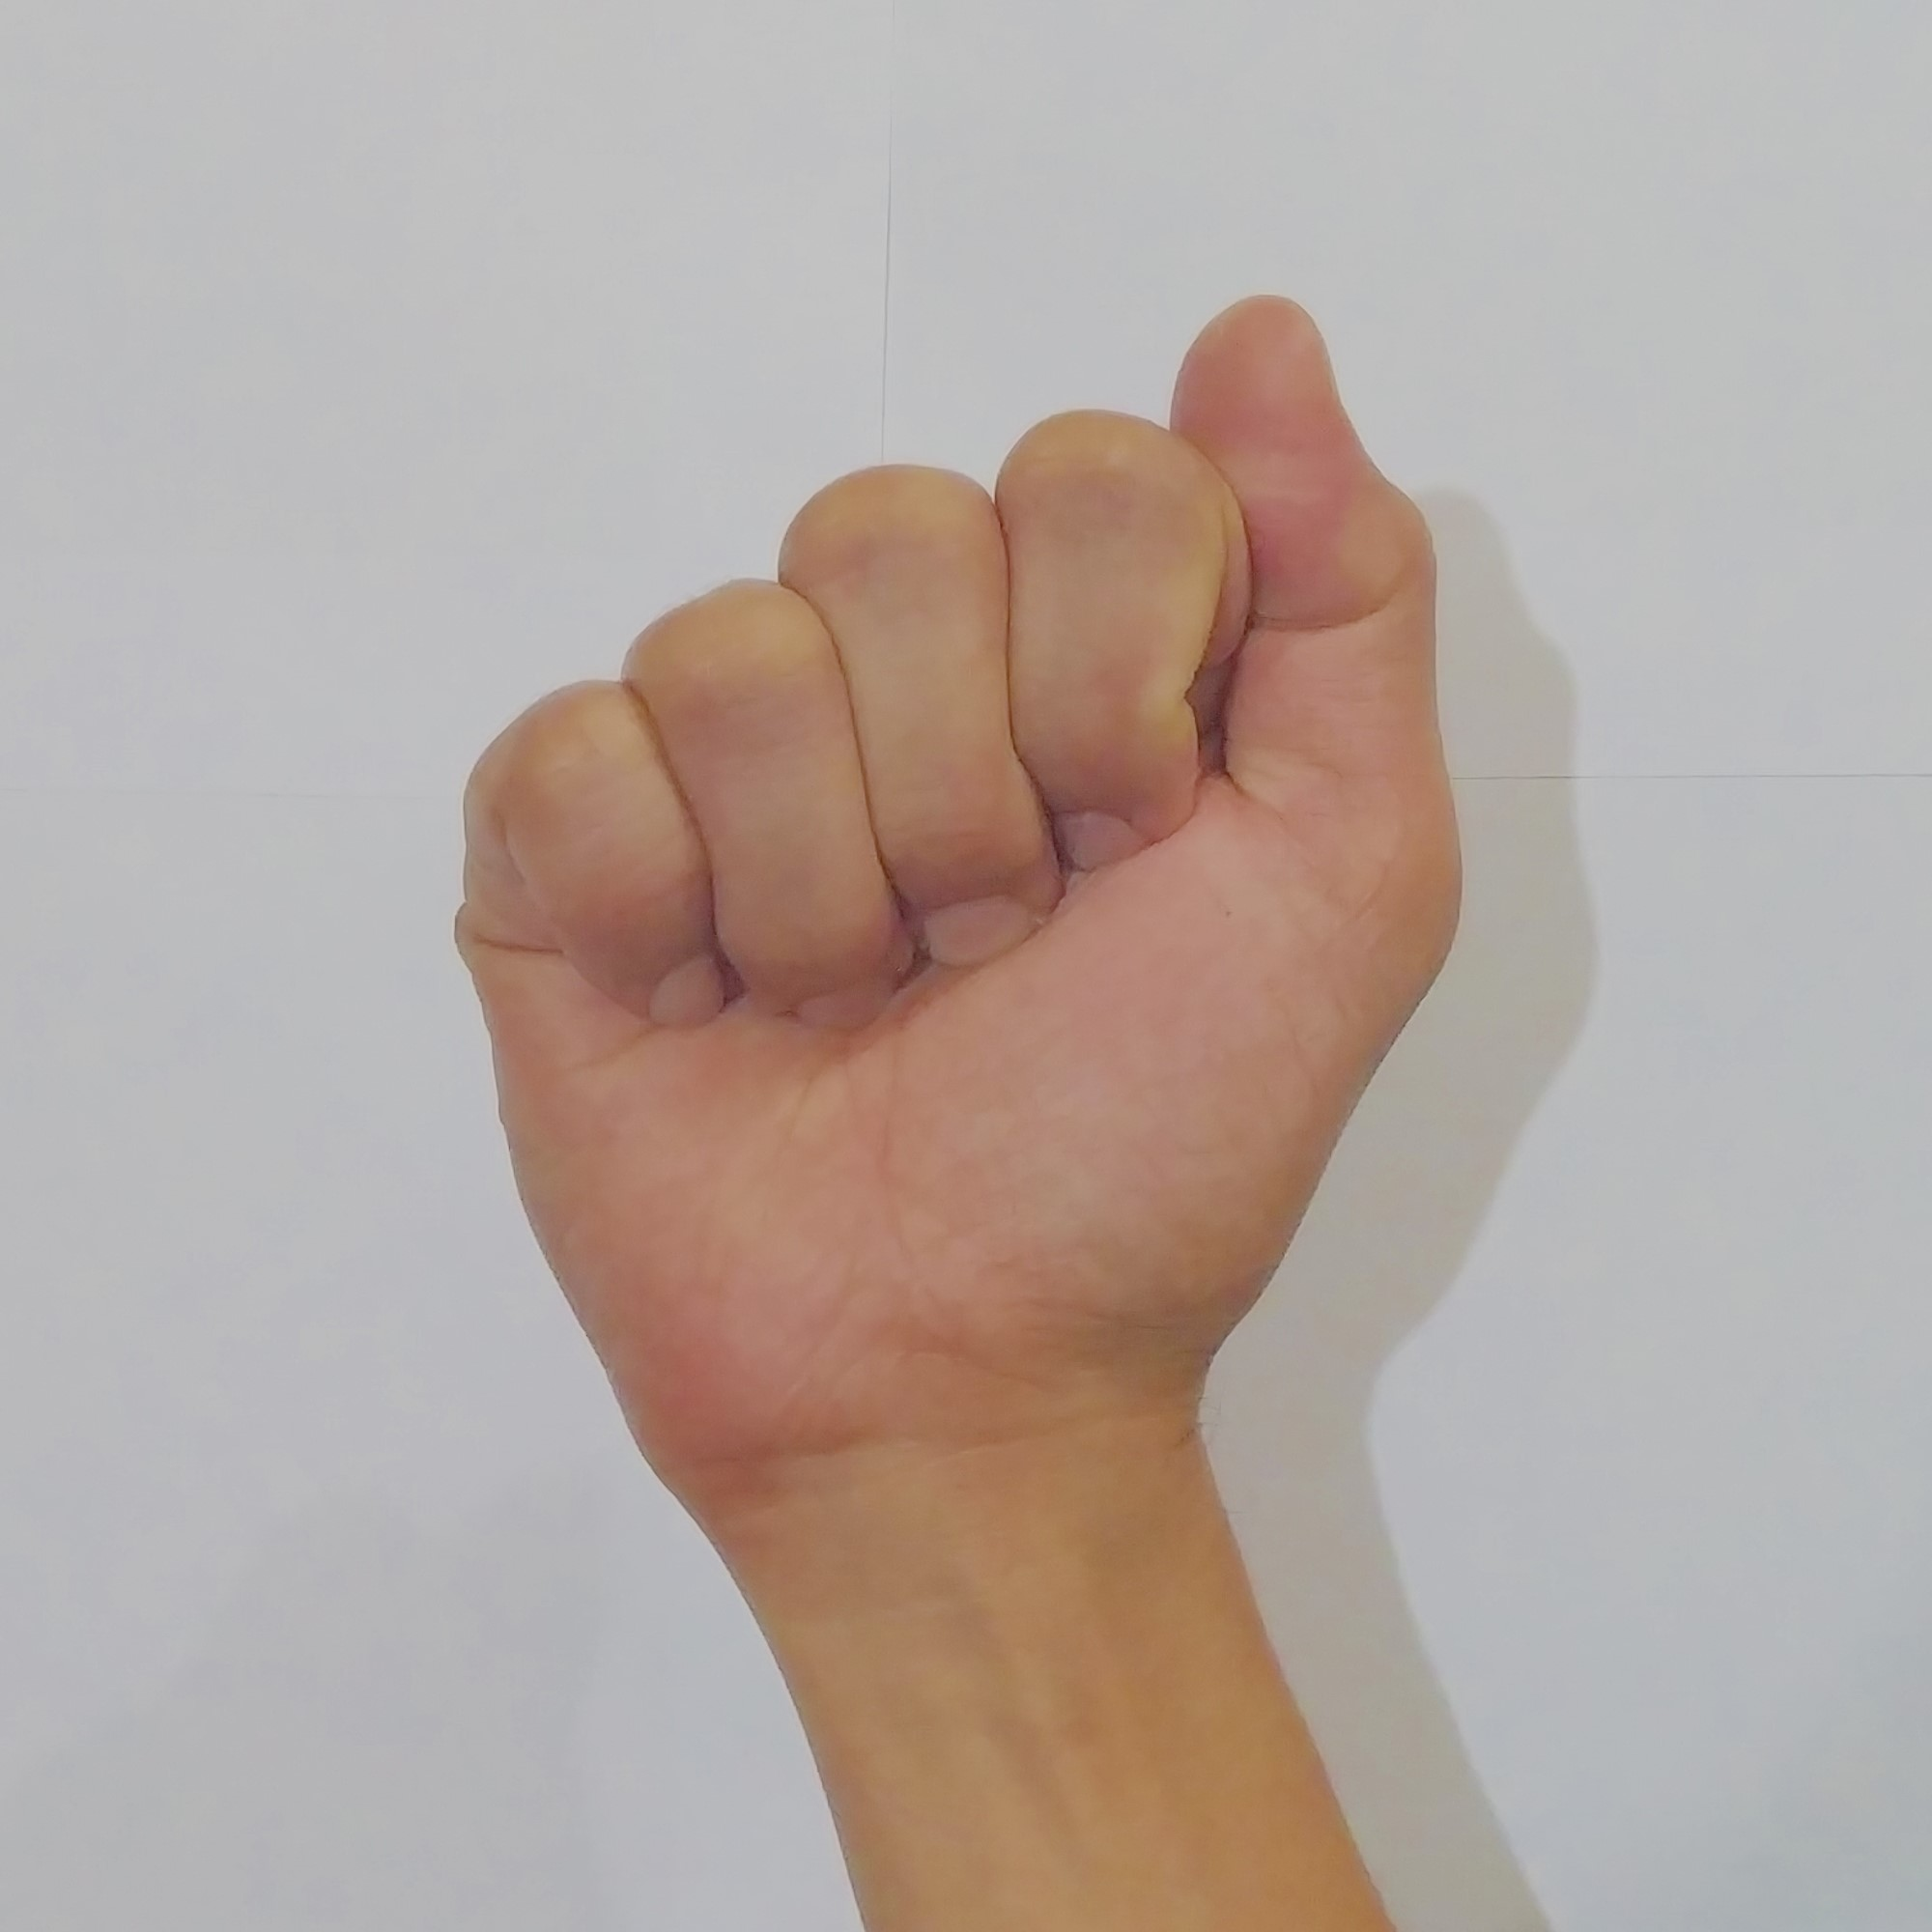A: (444, 281, 1479, 1461)
